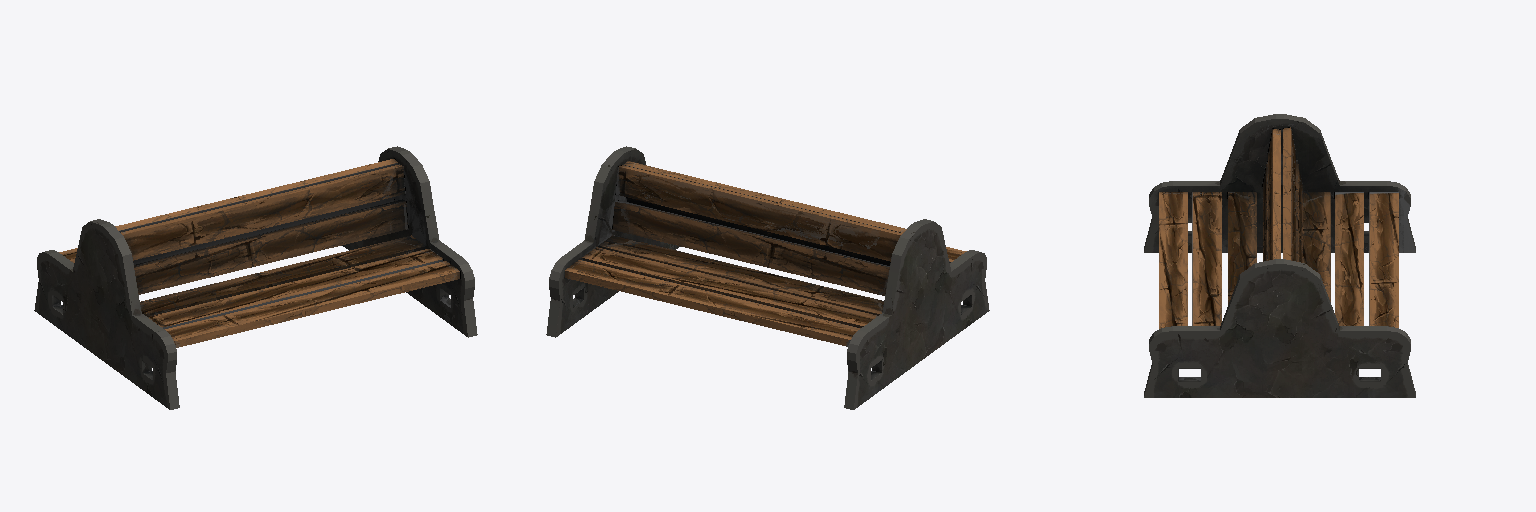
3 renders of one model, left to right at view 1: azimuth 30°, elevation 25°; view 2: azimuth 150°, elevation 25°; view 3: azimuth 270°, elevation 25°, orthographic.
Visible parts, largest first — view 1: Cube.003_Cube.004, Cube.001_Cube.002; view 2: Cube.003_Cube.004, Cube.001_Cube.002; view 3: Cube.001_Cube.002, Cube.003_Cube.004.
Boxes of the visible parts, <box> form: Cube.003_Cube.004: <box>59,158,460,347</box>; Cube.001_Cube.002: <box>34,146,477,409</box>; Cube.003_Cube.004: <box>565,161,966,346</box>; Cube.001_Cube.002: <box>546,146,989,409</box>; Cube.001_Cube.002: <box>1144,114,1415,397</box>; Cube.003_Cube.004: <box>1159,127,1398,328</box>.
Bounding box in the file's own units: 2.82 × 1.18 × 2.16.
1 materials, 1 textured.